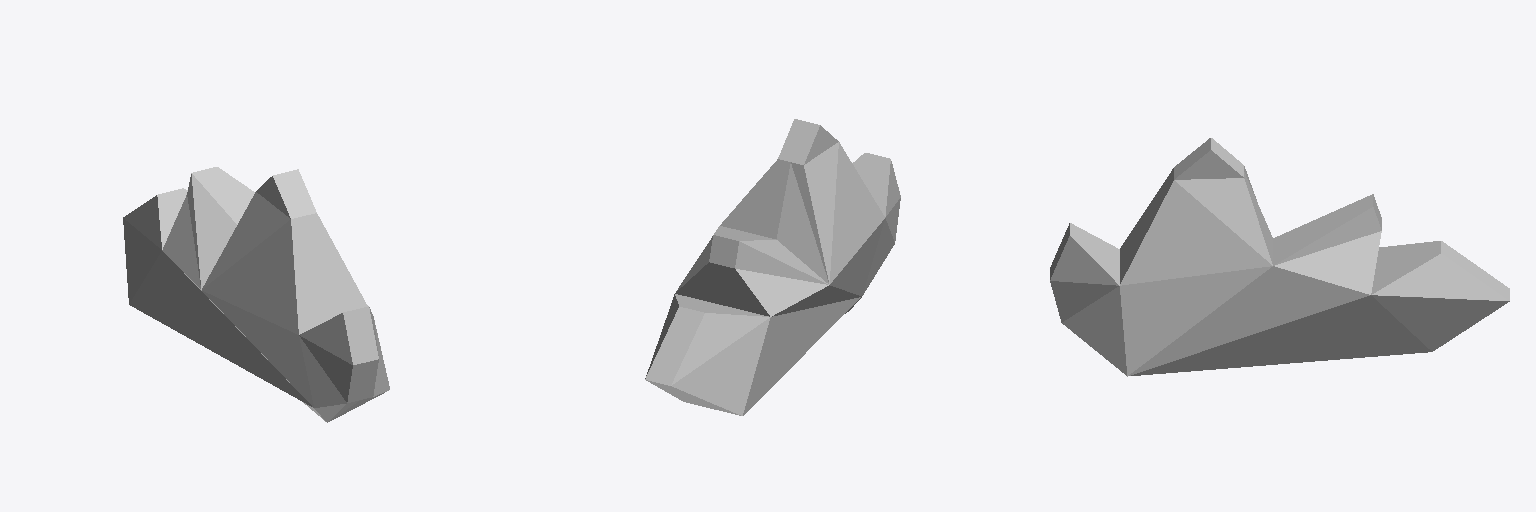
The model's file is mooncloud.obj.
3 renders of one model, left to right at view 1: azimuth 30°, elevation 25°; view 2: azimuth 150°, elevation 25°; view 3: azimuth 270°, elevation 25°, orthographic.
Parts seen in each view (by area): view 1: Cube; view 2: Cube; view 3: Cube.
Part boxes in pixels (bbox=[...]): Cube: bbox=[123, 167, 389, 422]; Cube: bbox=[645, 119, 900, 415]; Cube: bbox=[1050, 138, 1509, 376].
Size of the model in its own units: 3.3 by 5.97 by 11.31.